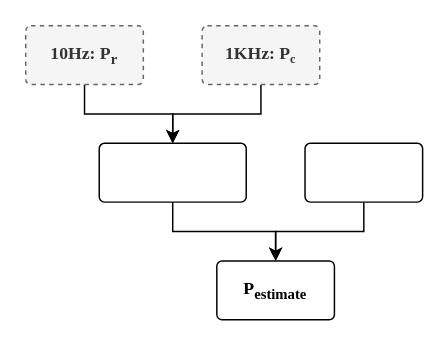
This 448x345 diagram has some shape labels left out. Each missing label, with the centre of its shape:
"1KHz: P measure" goes at (172,172).
"1KHz: P model" goes at (363,172).
